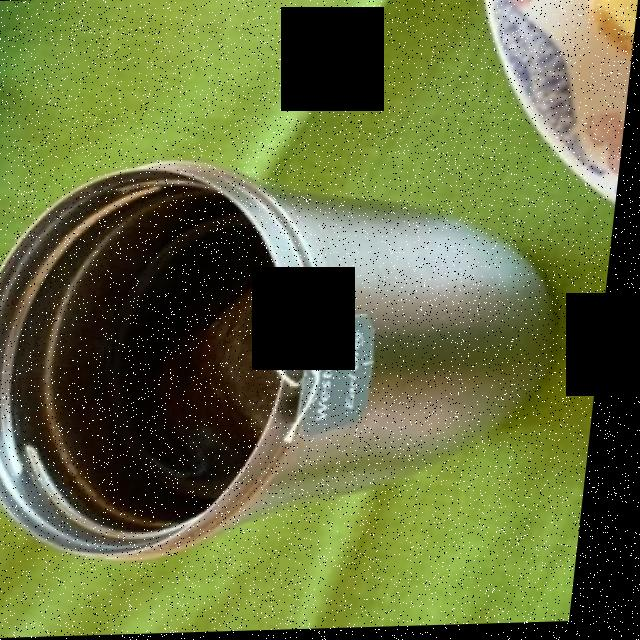tea: (93, 198, 292, 521)
